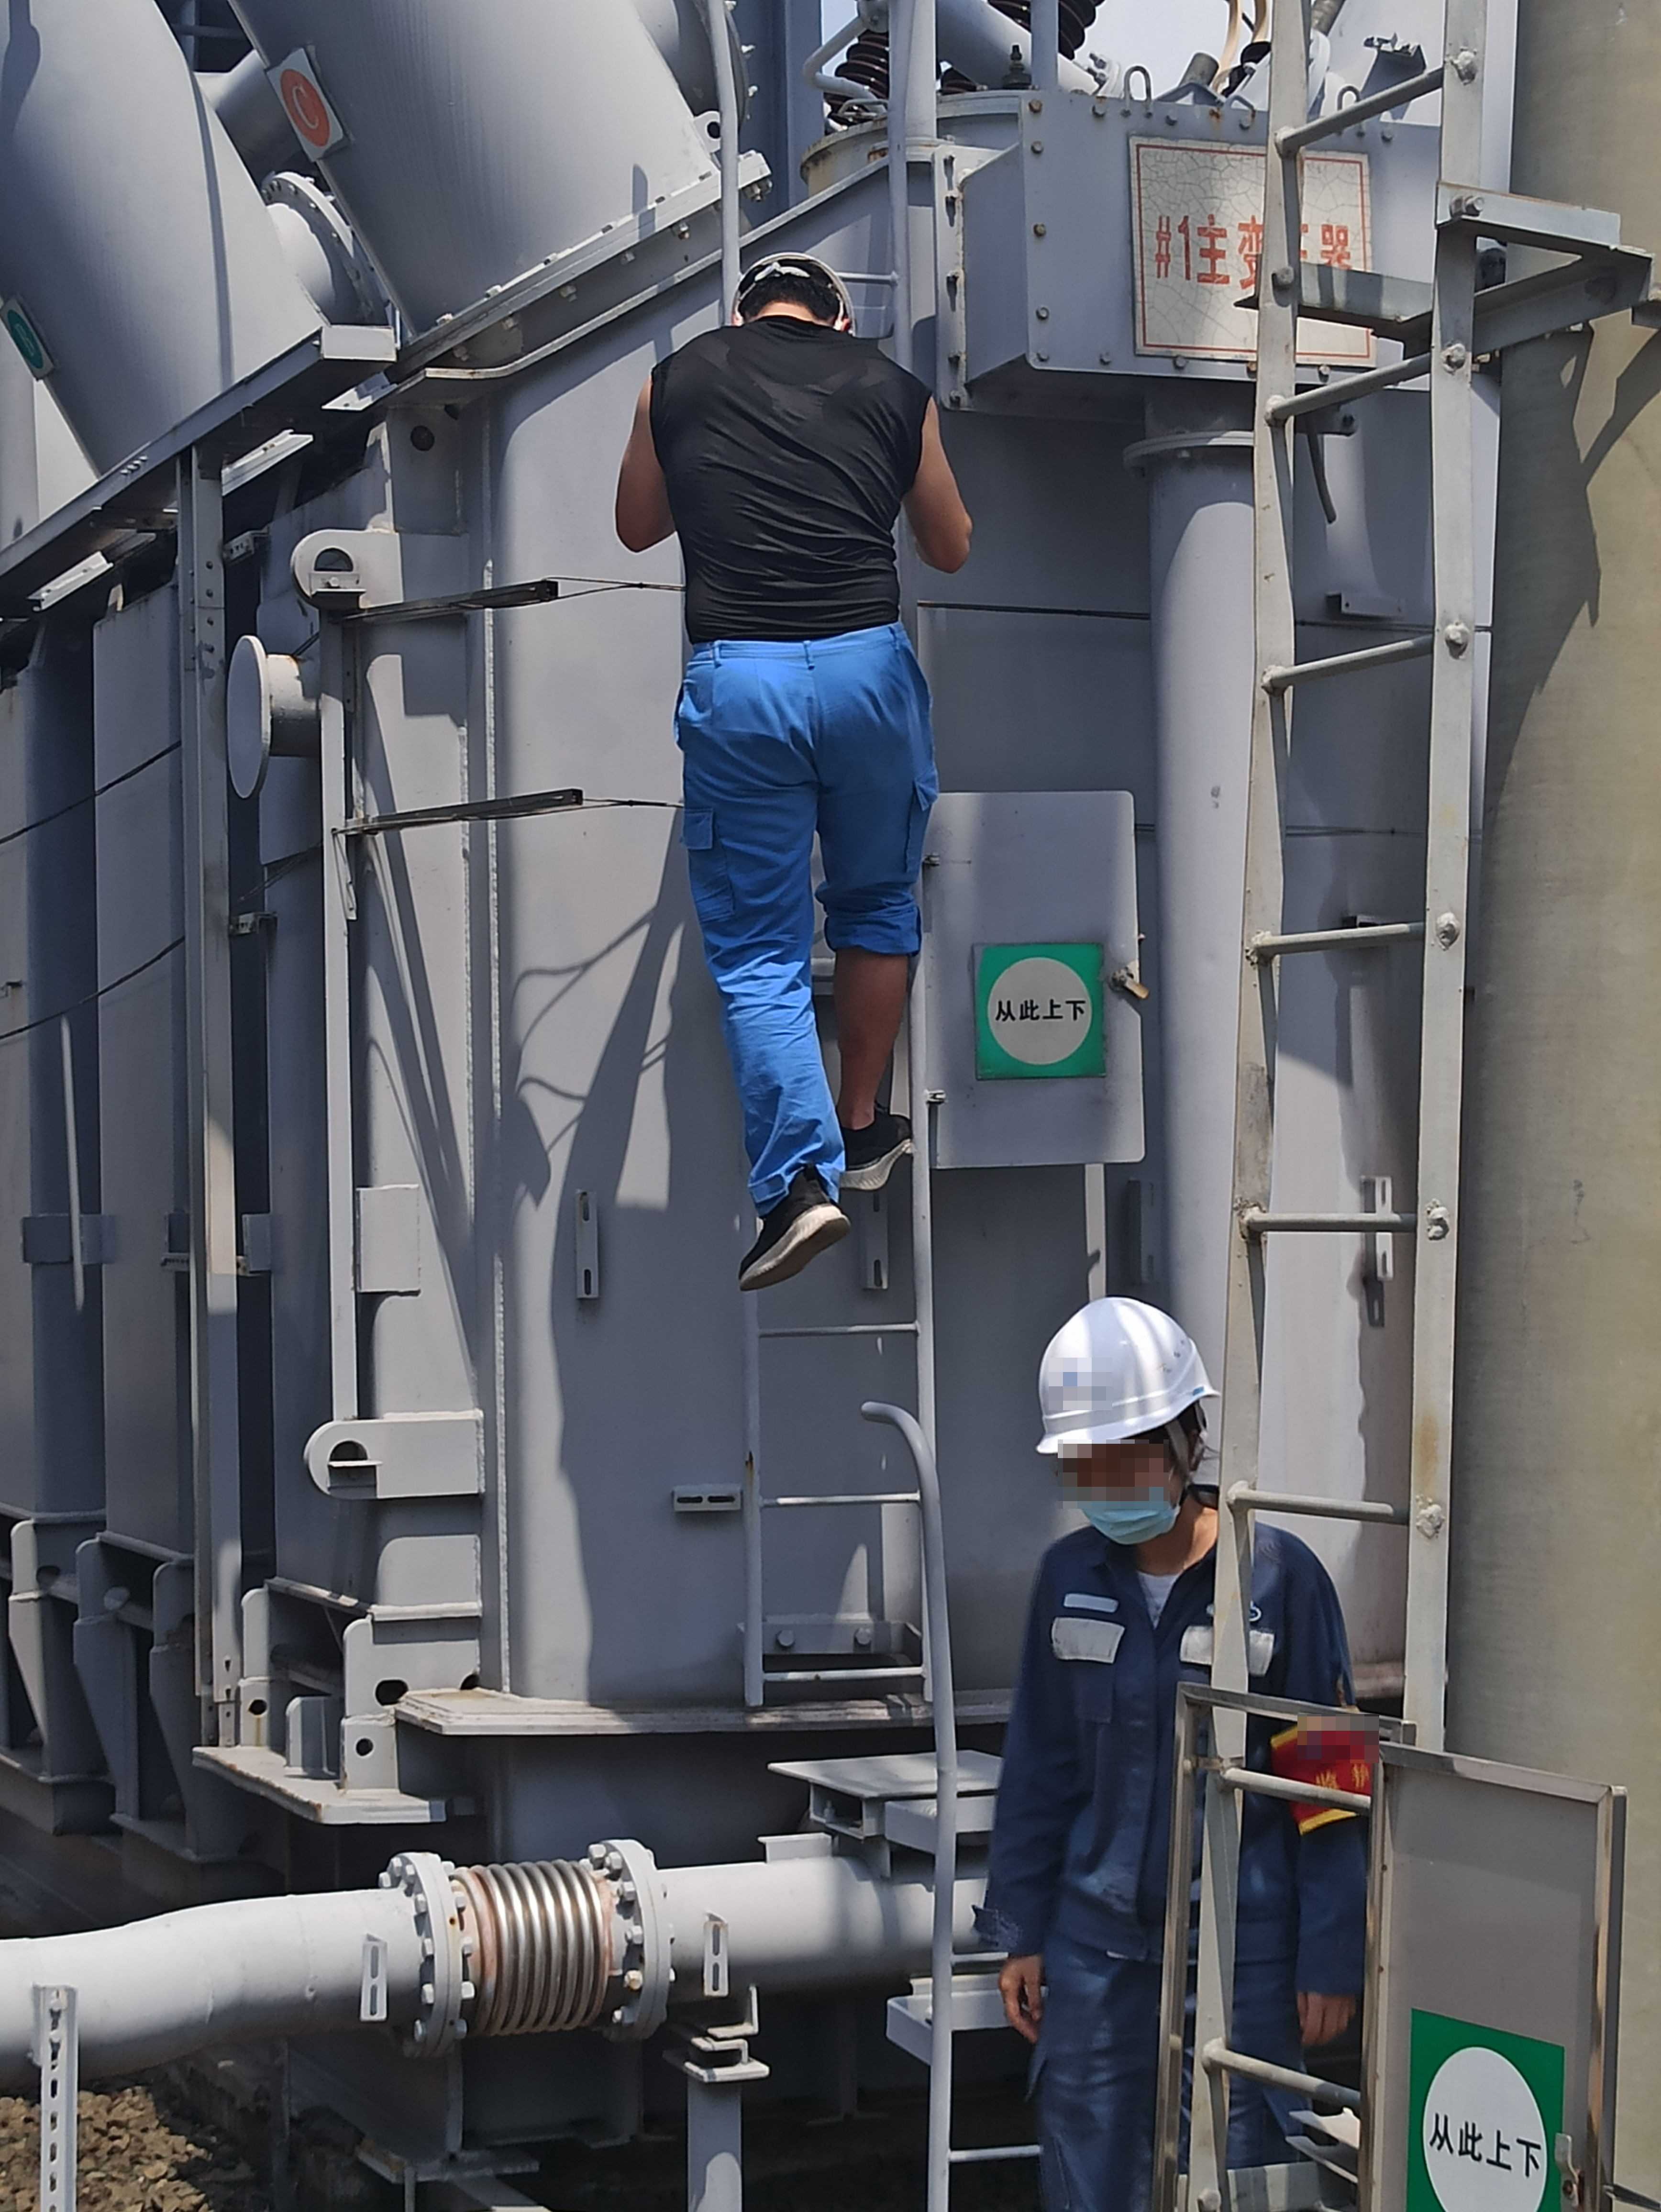downsuit: (665, 647, 932, 1191)
upcloth: (649, 323, 935, 614)
upsuit: (975, 1526, 1377, 1954)
wrongbottom: (813, 912, 925, 1158)
